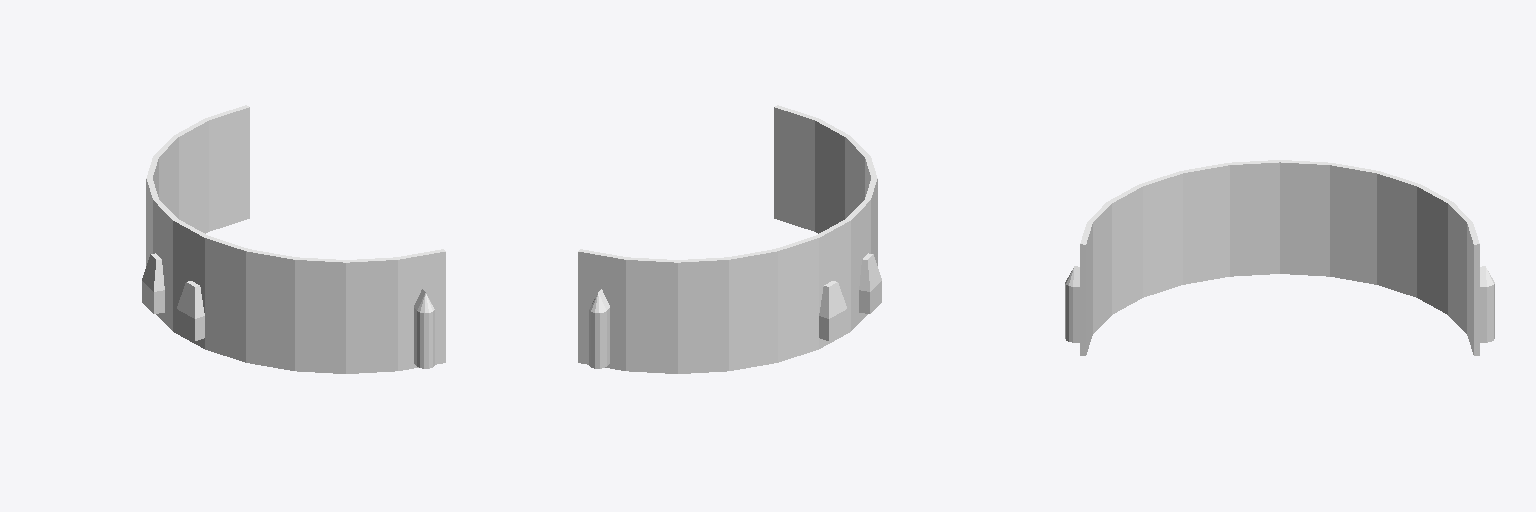
File: fairingbase.obj
The picture shows the model from 3 angles: view 1: azimuth 30°, elevation 25°; view 2: azimuth 150°, elevation 25°; view 3: azimuth 270°, elevation 25°; orthographic projection.
Parts seen in each view (by area): view 1: base; view 2: base; view 3: base.
Part boxes in pixels (left/top/right/bottom): base: left=142, top=105, right=445, bottom=373; base: left=578, top=105, right=881, bottom=373; base: left=1065, top=160, right=1494, bottom=355.
Bounding box in the file's own units: 0.854 × 0.5 × 1.75.